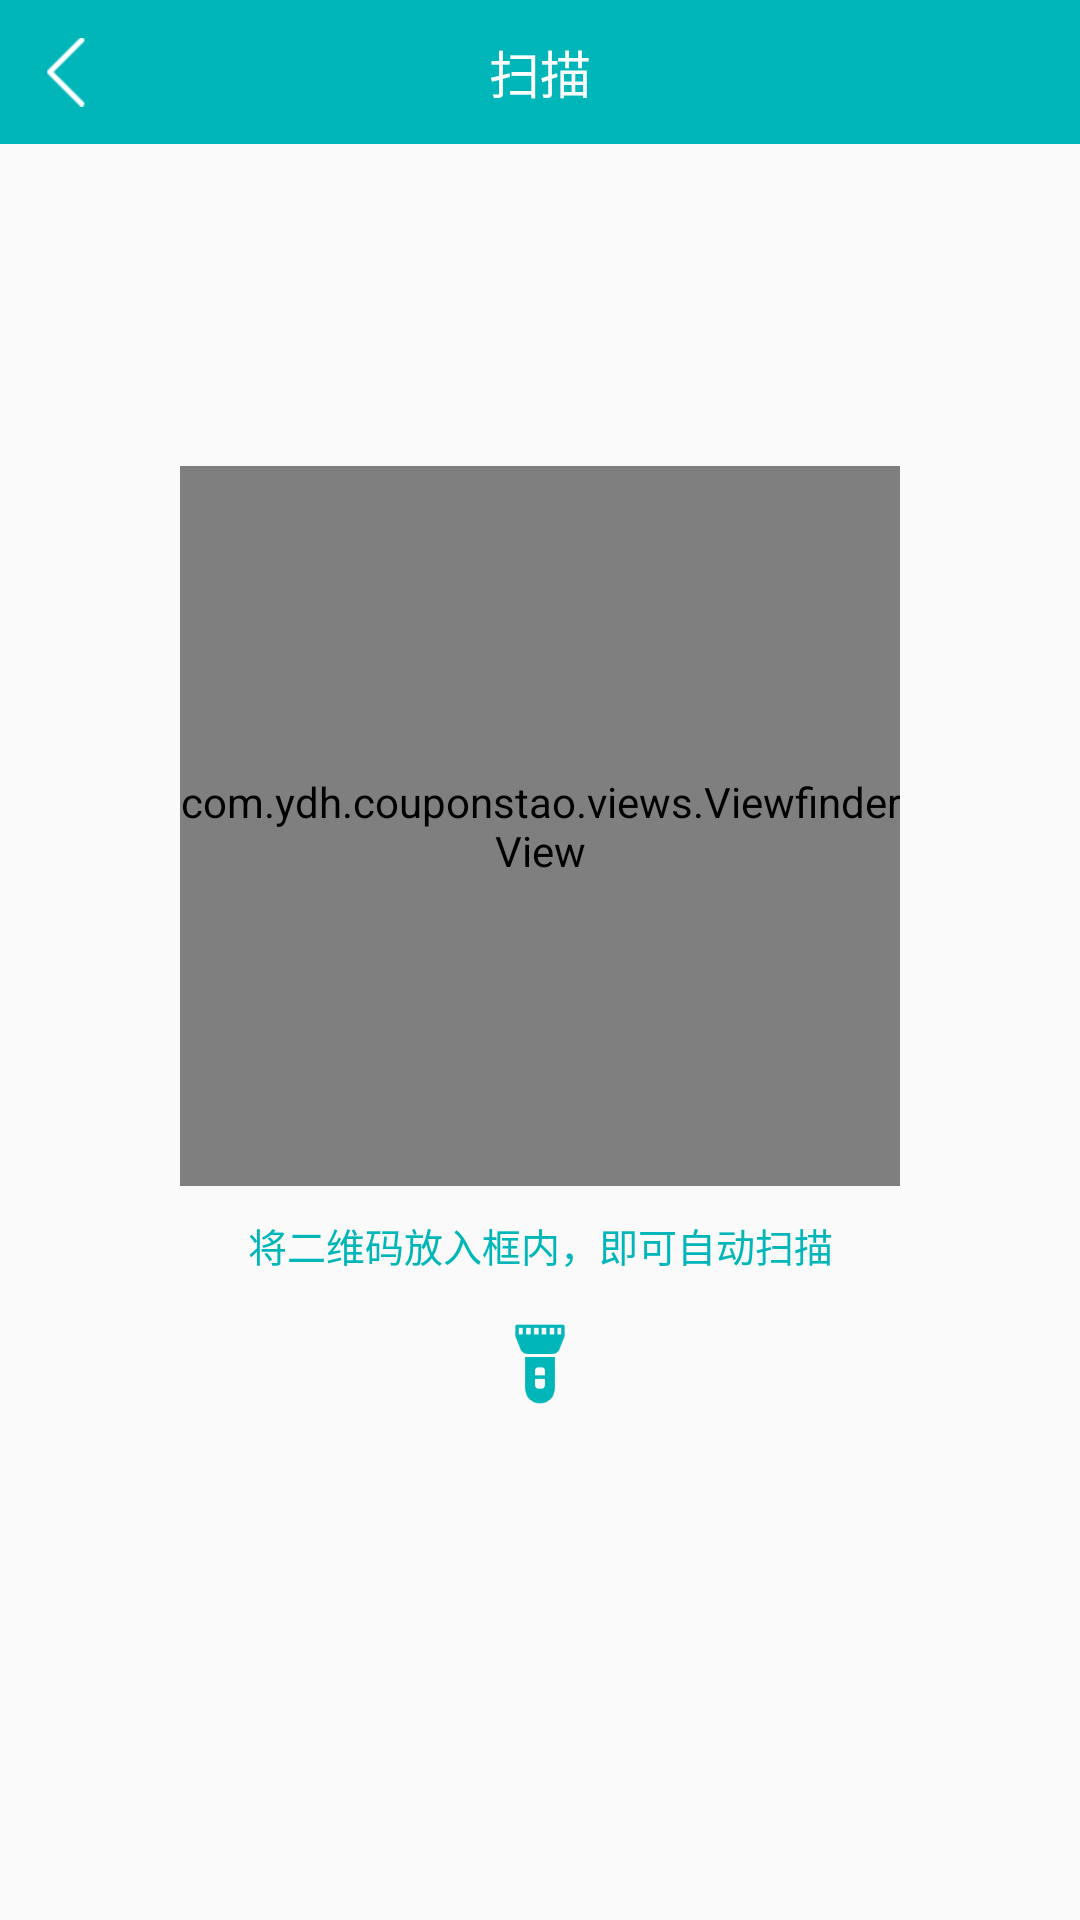

Named icons in this screenshot (1080w x 1920h) and their centers, [x,y]:
flash: [540,1364]
return: [66,72]
